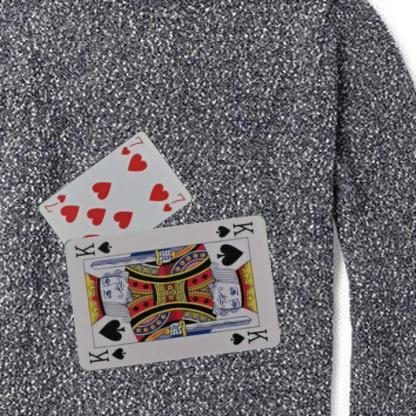7h: (118, 134, 144, 156)
Ks: (86, 345, 127, 366), (213, 219, 255, 239)
